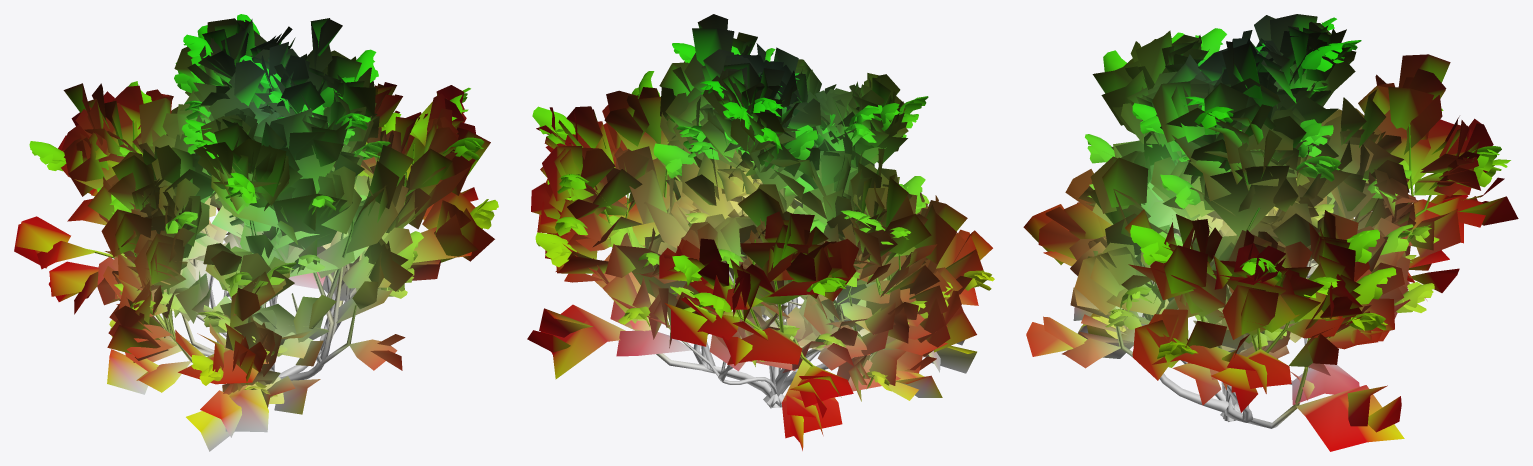
Rendered from arden_forest_lilac_02_rose.fbx.
The picture shows the model from 3 angles, left to right: view 1: azimuth 30°, elevation 25°; view 2: azimuth 150°, elevation 25°; view 3: azimuth 270°, elevation 25°; orthographic projection. The views are drawn at different scales.
Visible parts, largest first — view 1: arden_forest_lilac_02_rose; view 2: arden_forest_lilac_02_rose; view 3: arden_forest_lilac_02_rose.
Part boxes in pixels (x1,y1,x2,y2): arden_forest_lilac_02_rose: (14,14,498,451); arden_forest_lilac_02_rose: (527,14,994,450); arden_forest_lilac_02_rose: (1023,14,1518,451).
Size of the model in its own units: 5.26 by 5.02 by 4.58.
